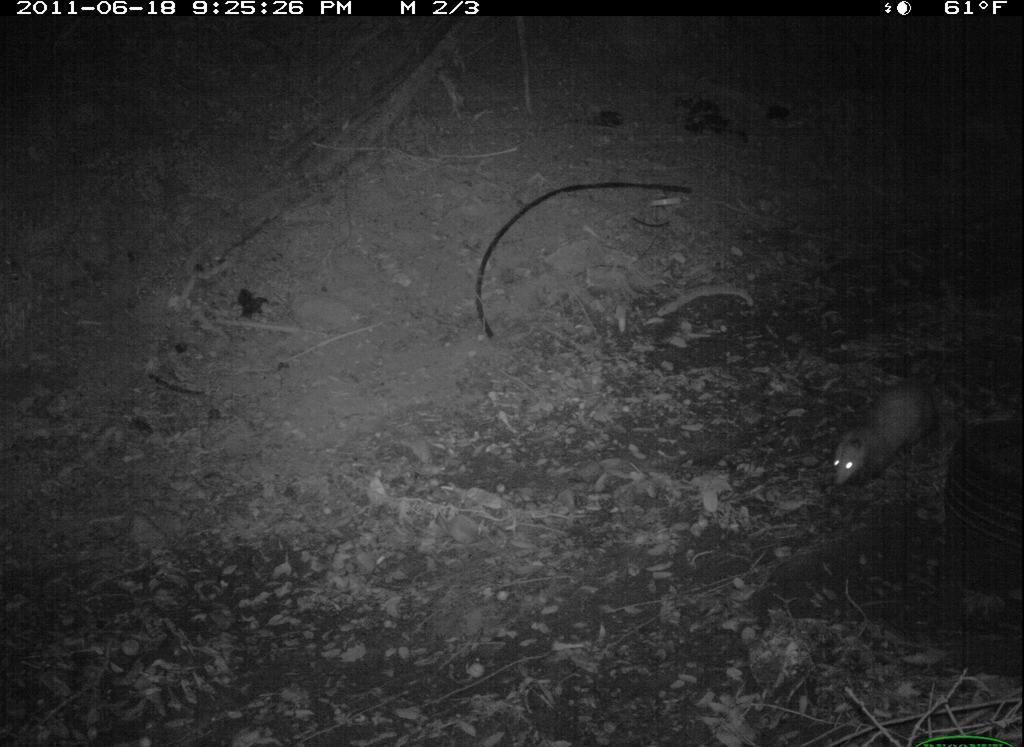opossum: (826, 361, 949, 493)
